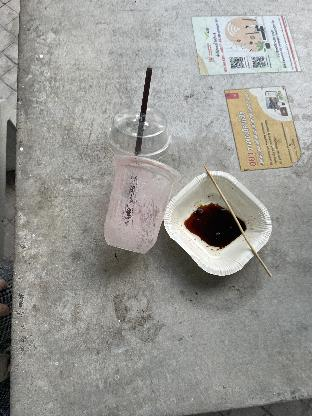Plastic Cup: (100, 154, 176, 258)
Styrofoam: (162, 165, 274, 285)
